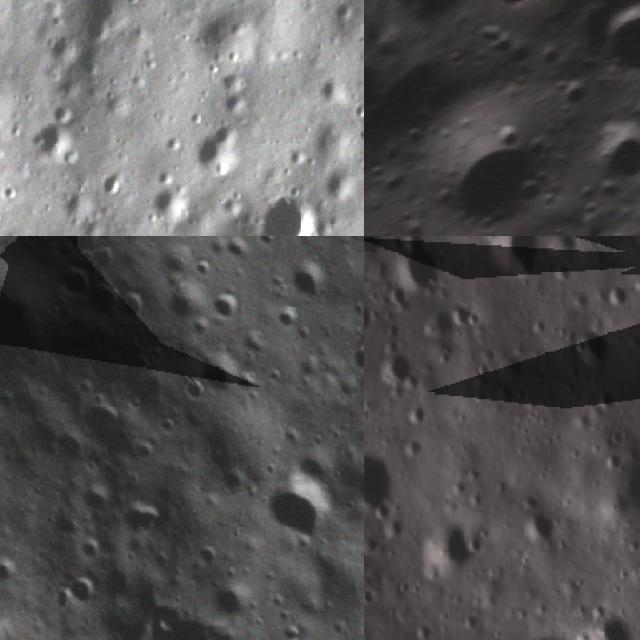crater: (430, 112, 567, 236), (245, 457, 347, 561), (576, 0, 640, 103), (116, 484, 185, 552), (281, 247, 343, 312), (198, 566, 260, 628), (591, 113, 640, 186), (249, 186, 320, 236), (46, 562, 107, 620), (59, 0, 130, 49), (50, 255, 109, 313), (72, 472, 129, 532), (418, 518, 476, 574), (186, 120, 238, 182), (394, 236, 446, 290), (32, 108, 78, 167), (203, 281, 252, 332), (490, 236, 539, 286), (106, 284, 160, 329), (516, 494, 558, 549), (569, 319, 606, 375), (55, 236, 119, 267), (82, 275, 128, 318), (364, 443, 392, 512), (472, 0, 546, 24), (377, 343, 417, 386), (0, 542, 30, 593), (92, 165, 132, 202), (150, 184, 187, 217), (578, 620, 638, 640), (342, 339, 364, 381), (603, 270, 626, 308), (364, 236, 383, 260), (364, 277, 369, 331)
